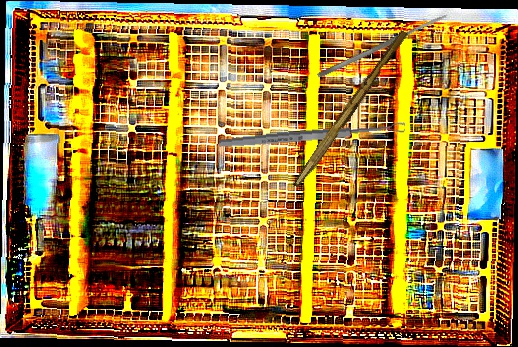Scalpel Handle: (292, 27, 409, 192)
Spatula Surgical: (316, 11, 450, 80)
Surgical Spoon: (218, 121, 406, 150)
